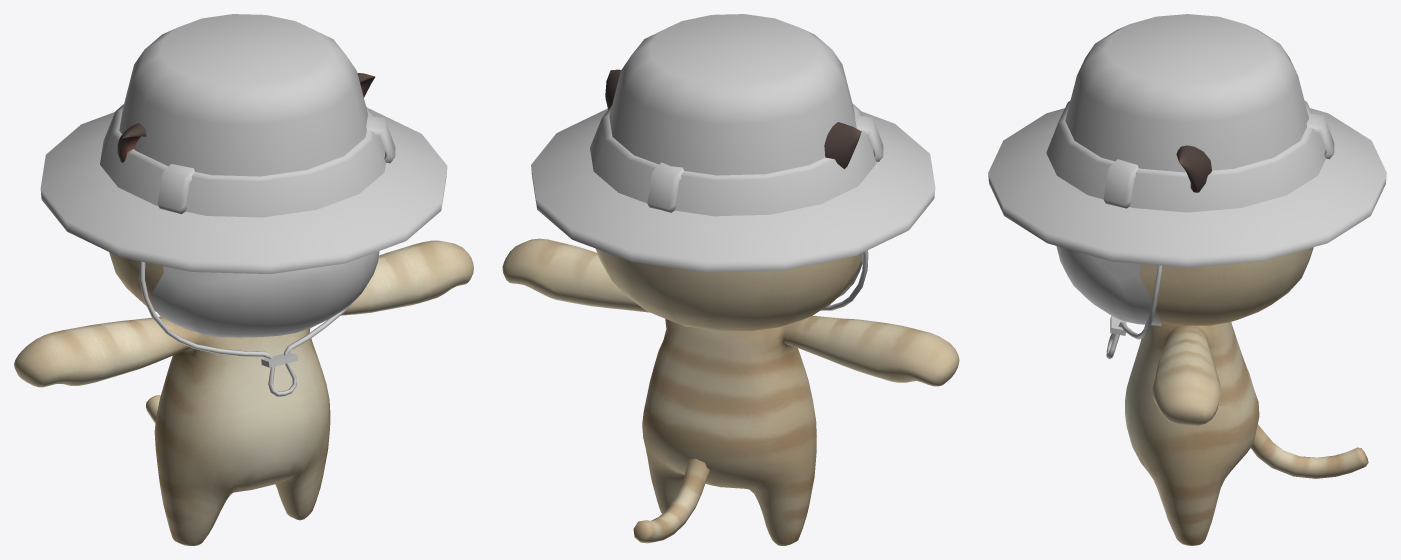
The model's file is Hat_Hiking.fbx.
3 renders of one model, left to right at view 1: azimuth 30°, elevation 25°; view 2: azimuth 150°, elevation 25°; view 3: azimuth 270°, elevation 25°, orthographic. The views are drawn at different scales.
Visible parts, largest first — view 1: Hiking_hat_A, Chibi_Cat; view 2: Hiking_hat_A, Chibi_Cat; view 3: Hiking_hat_A, Chibi_Cat.
Part boxes in pixels (left/top/right/bottom): Hiking_hat_A: left=40, top=14, right=447, bottom=396; Chibi_Cat: left=14, top=73, right=473, bottom=545; Hiking_hat_A: left=531, top=14, right=935, bottom=310; Chibi_Cat: left=502, top=69, right=959, bottom=545; Hiking_hat_A: left=988, top=14, right=1386, bottom=359; Chibi_Cat: left=1056, top=145, right=1368, bottom=545.
Bounding box in the file's own units: 180 × 184 × 142.
